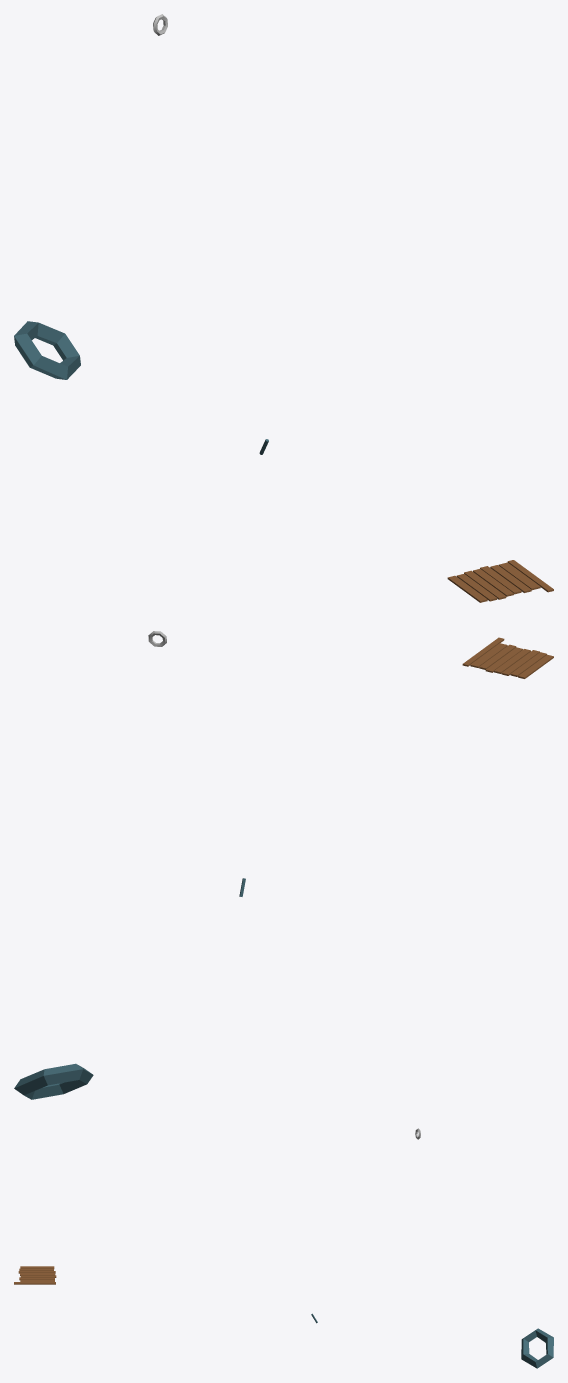
The picture shows the model from 3 angles, top to bottom: view 1: azimuth 30°, elevation 25°; view 2: azimuth 150°, elevation 25°; view 3: azimuth 270°, elevation 25°; orthographic projection. The views are drawn at different scales.
Parts seen in each view (by area): view 1: Plane362_brown_0, Torus045_metal_0; view 2: Plane362_brown_0, Torus045_metal_0; view 3: Torus045_metal_0, Plane362_brown_0.
Part boxes in pixels (x1,y1,x2,y2): Plane362_brown_0: (447,560,553,602); Torus045_metal_0: (14,321,80,379); Plane362_brown_0: (462,637,553,678); Torus045_metal_0: (14,1063,93,1099); Torus045_metal_0: (521,1328,553,1368); Plane362_brown_0: (14,1266,56,1284).
Bounding box in the file's own units: 463 × 2060 × 4355.
